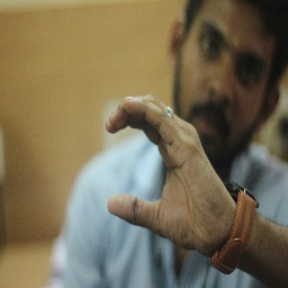C: (100, 91, 209, 233)
